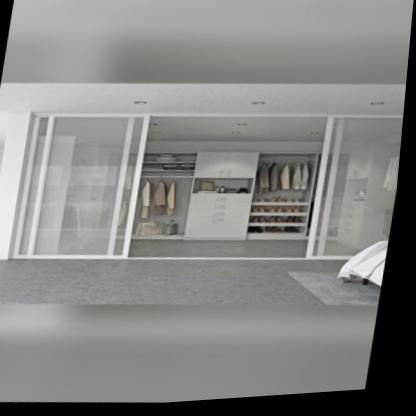Transparent Closet: (0, 114, 406, 264)
